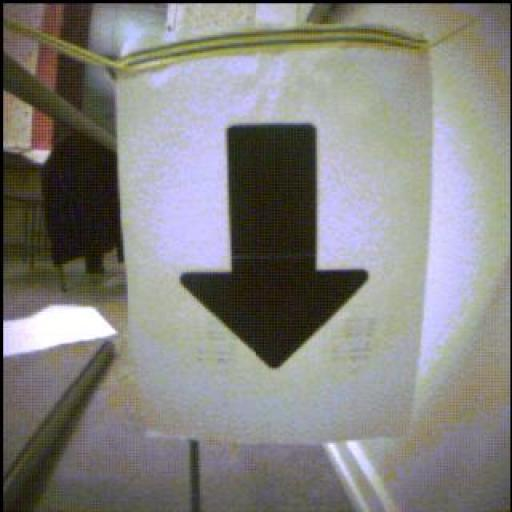Arrow: (182, 126, 369, 369)
